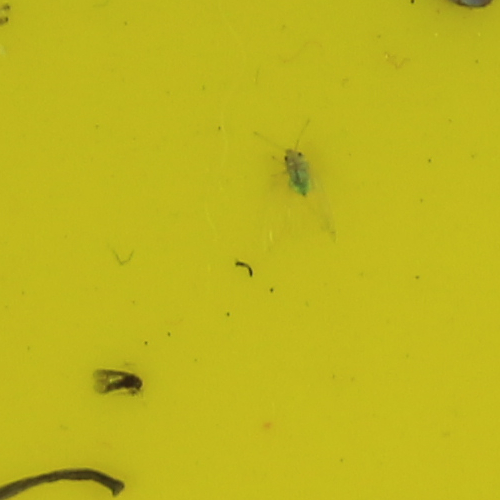Glycaspis: (279, 144, 315, 199)
